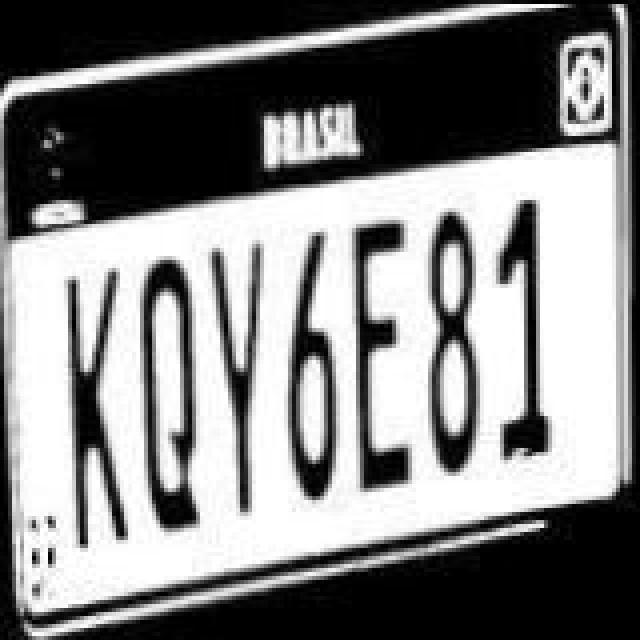1: (486, 194, 558, 462)
6: (278, 228, 342, 504)
8: (422, 210, 486, 478)
E: (348, 214, 416, 490)
K: (64, 266, 136, 550)
Q: (134, 256, 202, 532)
Y: (204, 240, 272, 520)
